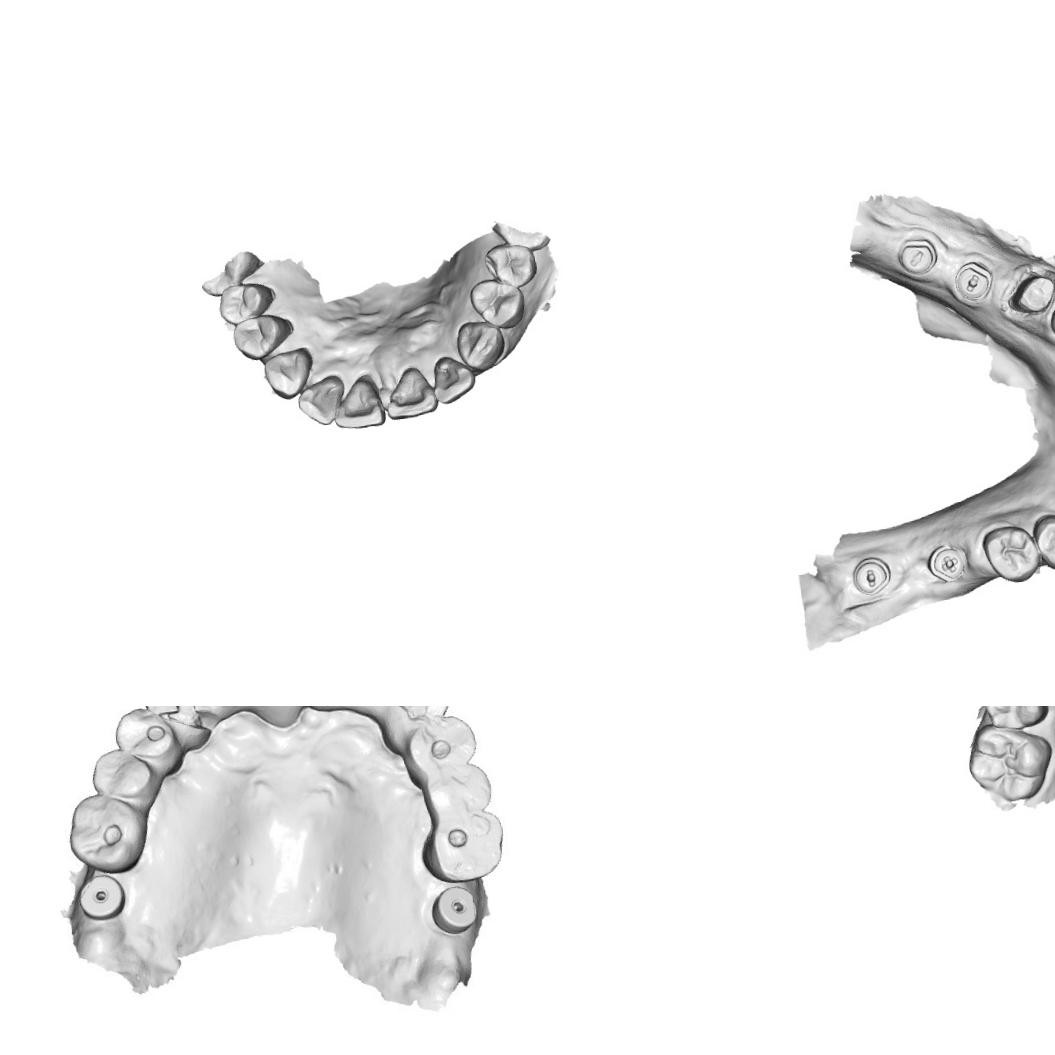canine: (262, 344, 318, 404), (142, 706, 208, 751), (454, 318, 507, 374), (386, 706, 454, 742)
crown: (1005, 268, 1055, 321)
implant: (427, 882, 481, 936), (75, 873, 130, 924)
implant_minus: (952, 256, 998, 306), (898, 234, 941, 278), (852, 554, 894, 599)
implant_plus: (926, 542, 970, 585)
incisor: (382, 364, 441, 422), (329, 372, 386, 432), (294, 374, 347, 427), (430, 352, 478, 405)
molar: (963, 717, 1055, 805), (412, 808, 509, 888), (65, 790, 153, 877)
premolar: (404, 709, 478, 779), (114, 706, 181, 779), (418, 762, 494, 823), (90, 741, 158, 806), (981, 520, 1043, 588), (230, 310, 297, 363), (467, 275, 528, 333), (482, 238, 540, 292), (216, 278, 278, 327), (981, 706, 1051, 733), (1032, 509, 1055, 573)
